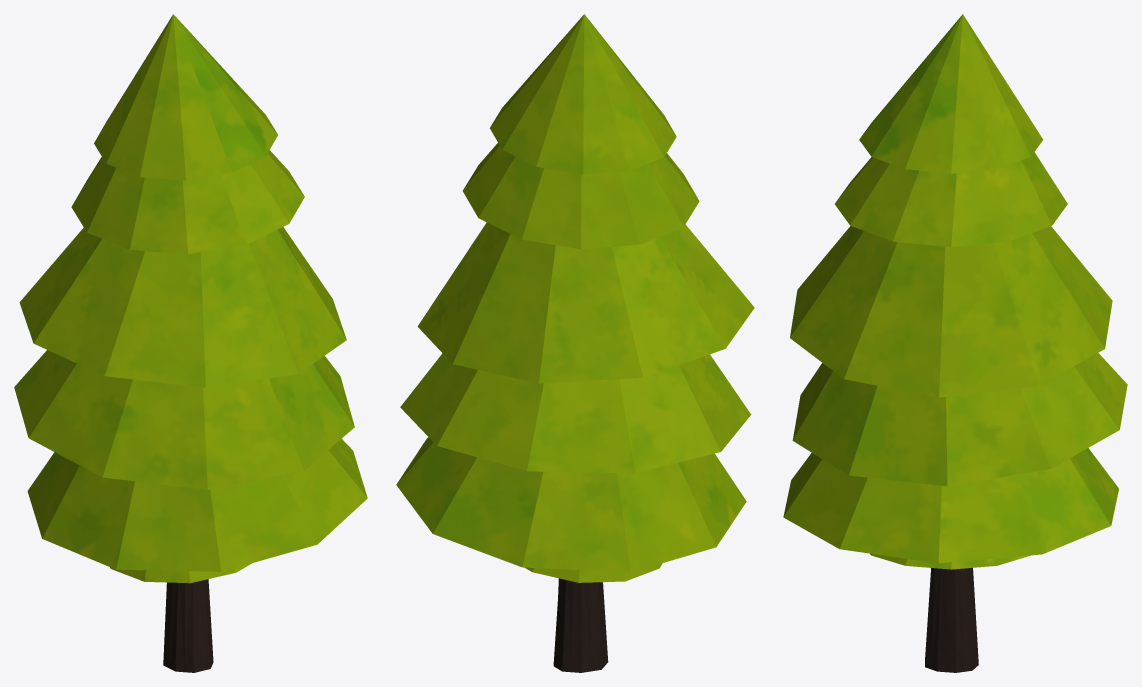
Rendered from tree-bright-green-flowers_3.fbx.
The picture shows the model from 3 angles, left to right: view 1: azimuth 30°, elevation 25°; view 2: azimuth 150°, elevation 25°; view 3: azimuth 270°, elevation 25°; orthographic projection.
Parts seen in each view (by area): view 1: Cylinder.012; view 2: Cylinder.012; view 3: Cylinder.012.
Boxes of the visible parts, <box> form: Cylinder.012: <box>14,14,367,672</box>; Cylinder.012: <box>396,14,754,672</box>; Cylinder.012: <box>783,14,1127,672</box>.
Bounding box in the file's own units: 139 × 279 × 135.
